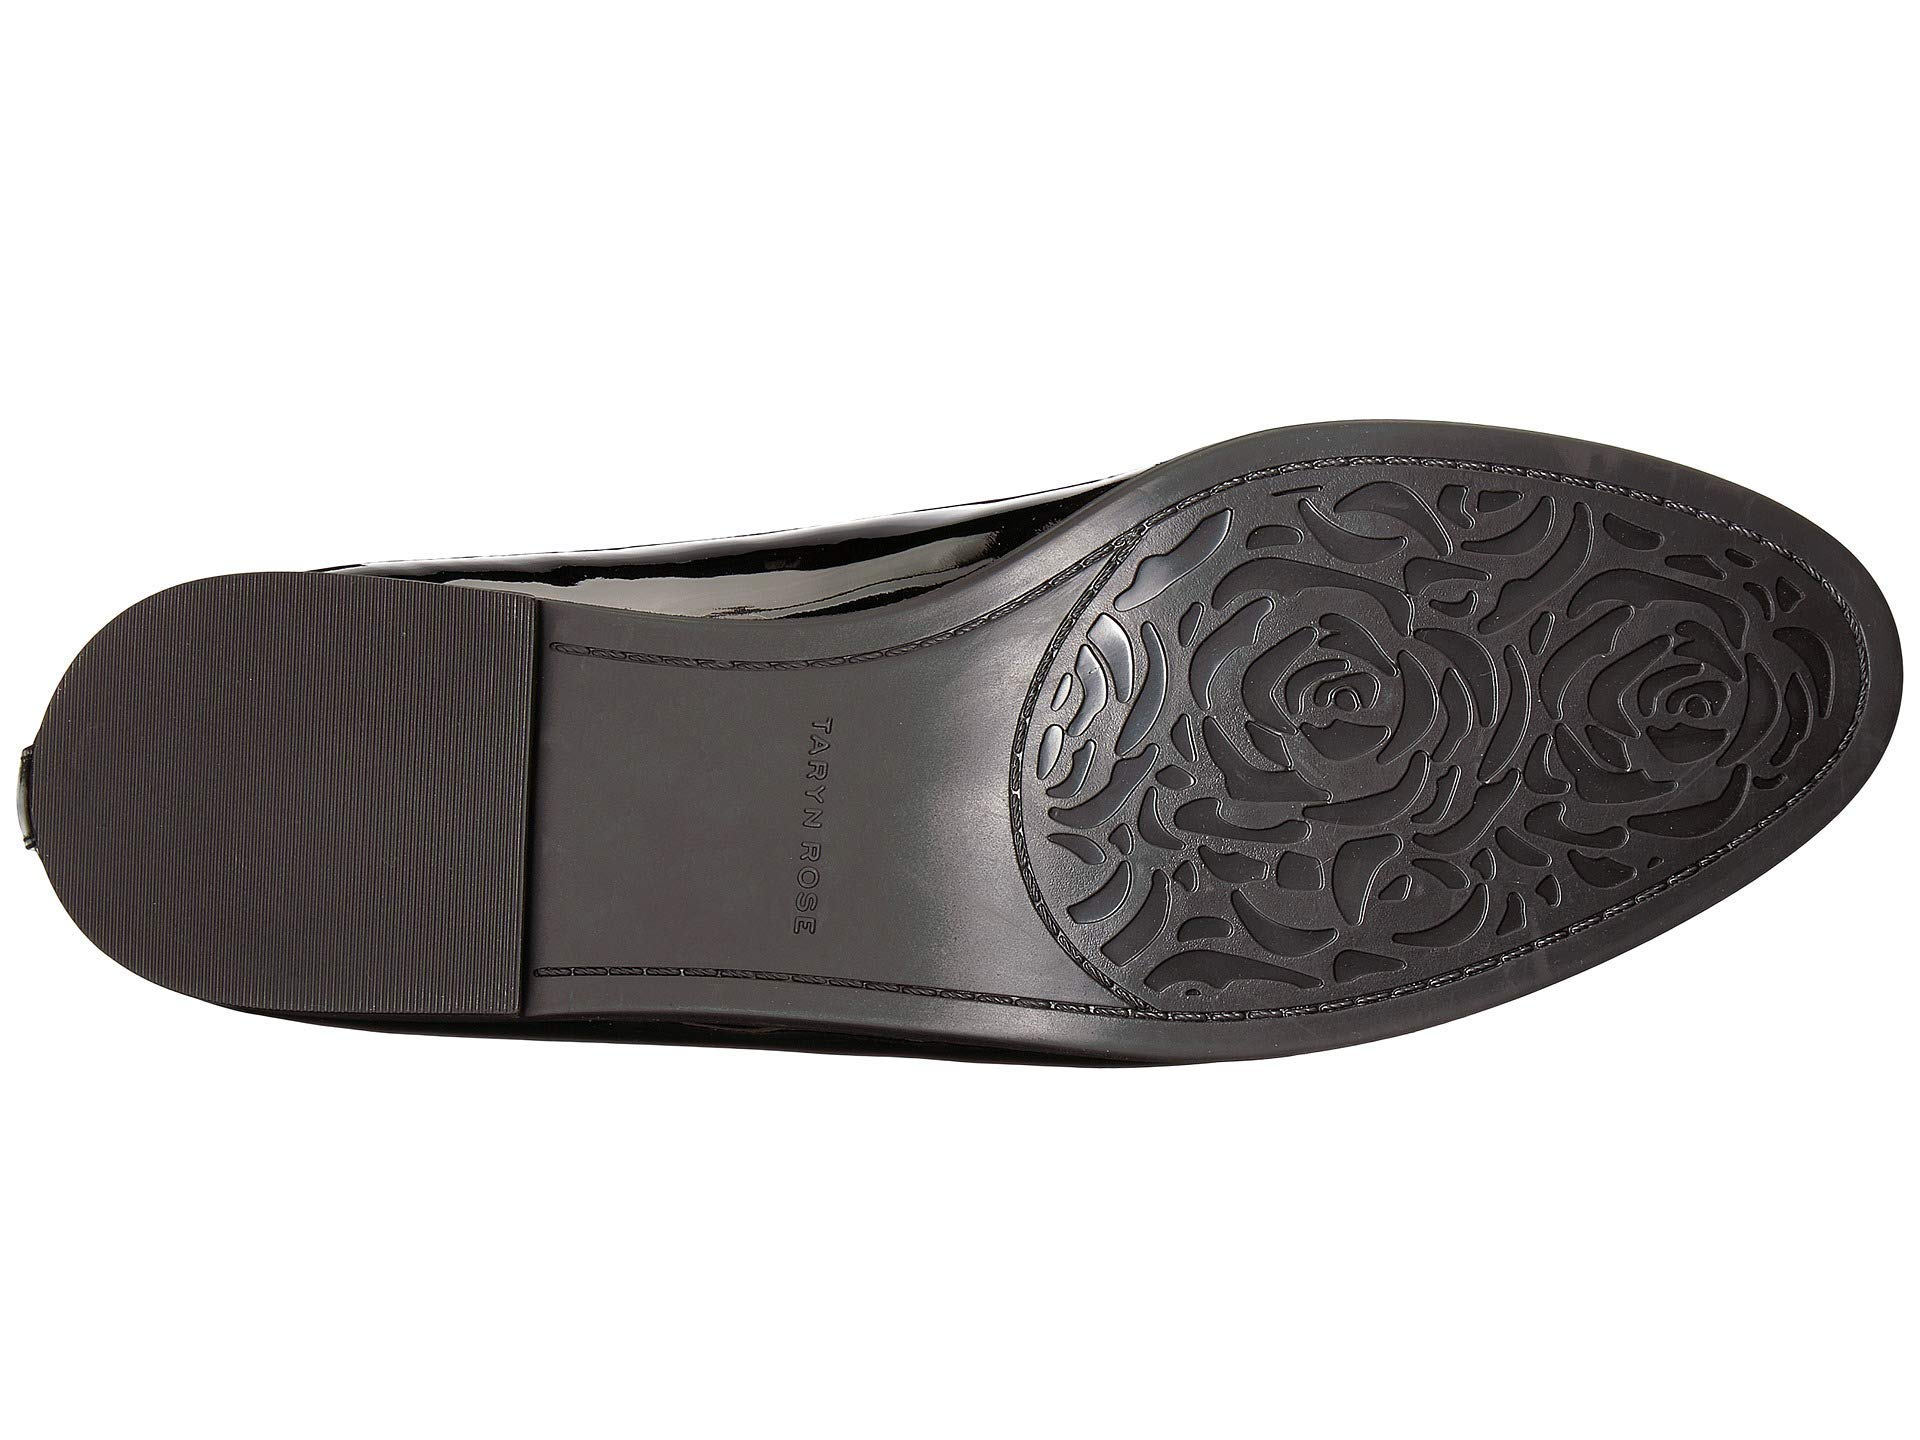line: (144, 663, 304, 797)
